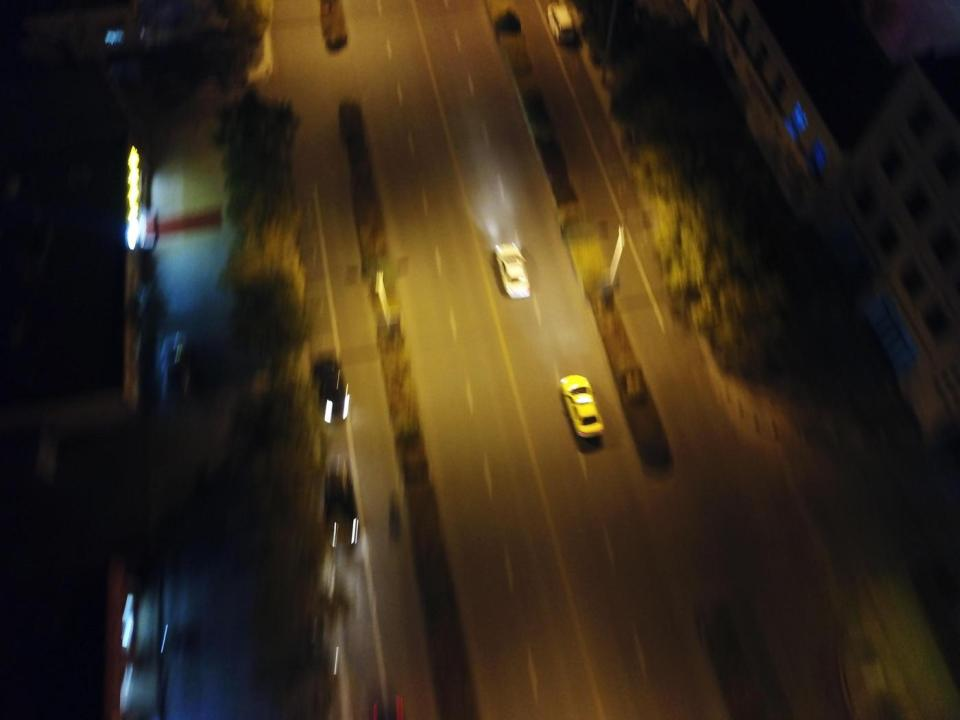car: (316, 458, 362, 546), (229, 1, 272, 83), (306, 352, 350, 422), (558, 373, 604, 438), (162, 331, 194, 401), (494, 244, 530, 298)
van: (548, 3, 575, 46)
